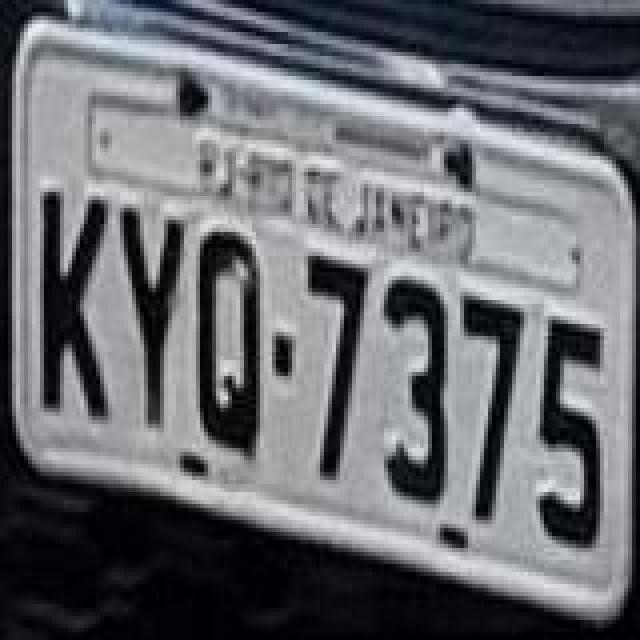3: (384, 276, 448, 508)
5: (534, 316, 602, 552)
7: (304, 256, 368, 488), (460, 294, 524, 526)
K: (38, 192, 106, 424)
Q: (196, 234, 260, 466)
Y: (118, 206, 186, 430)
